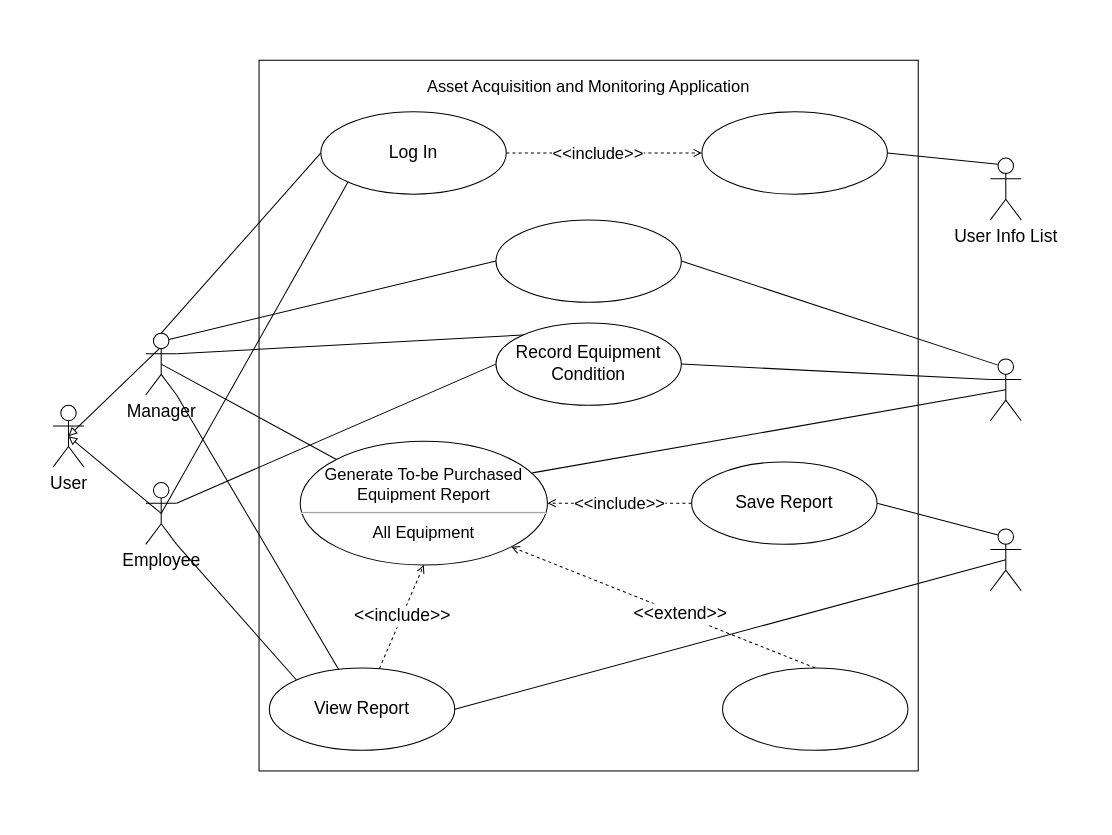
This 1112x835 diagram has some shape labels left out. The shapes that lost their labels are listed below. From the top down, each one's centre as x and y in pixels, then its label:
At point (794, 152): "Verify Log In Info".
At point (588, 260): "Assign Equipment To Office".
At point (1005, 389): "Equipment List".
At point (1005, 559): "Report List".
At point (815, 708): "Generate List of Equipment Report".
